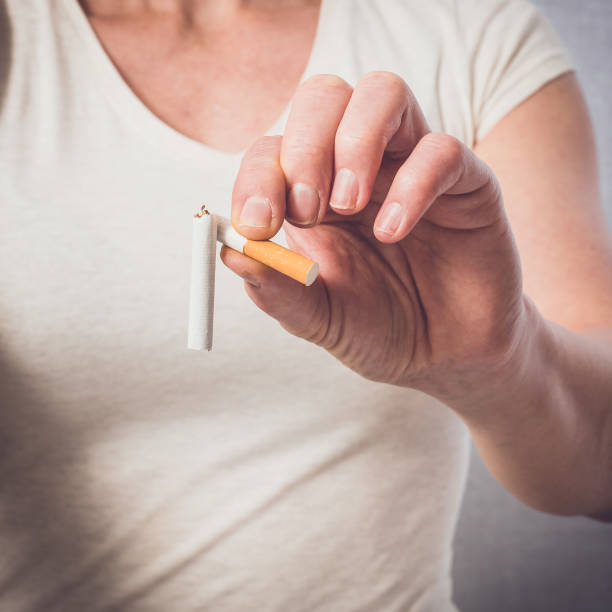cigarette: (215, 215, 321, 288), (184, 205, 219, 357)
